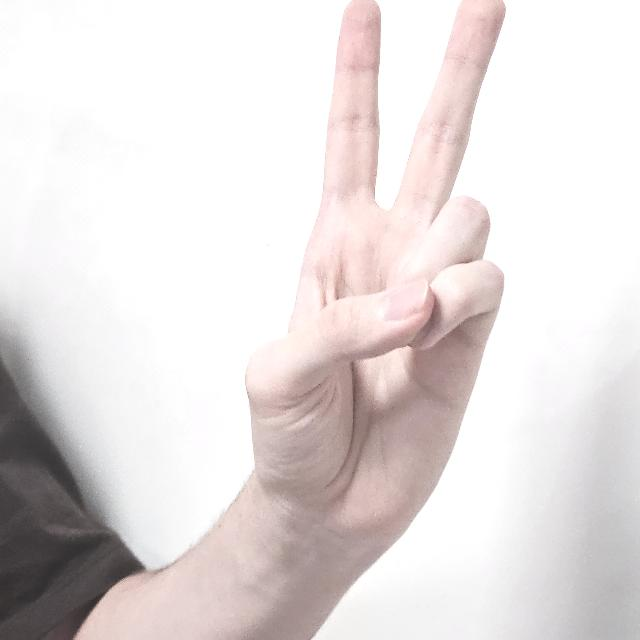Triangulo: (246, 7, 504, 539)
